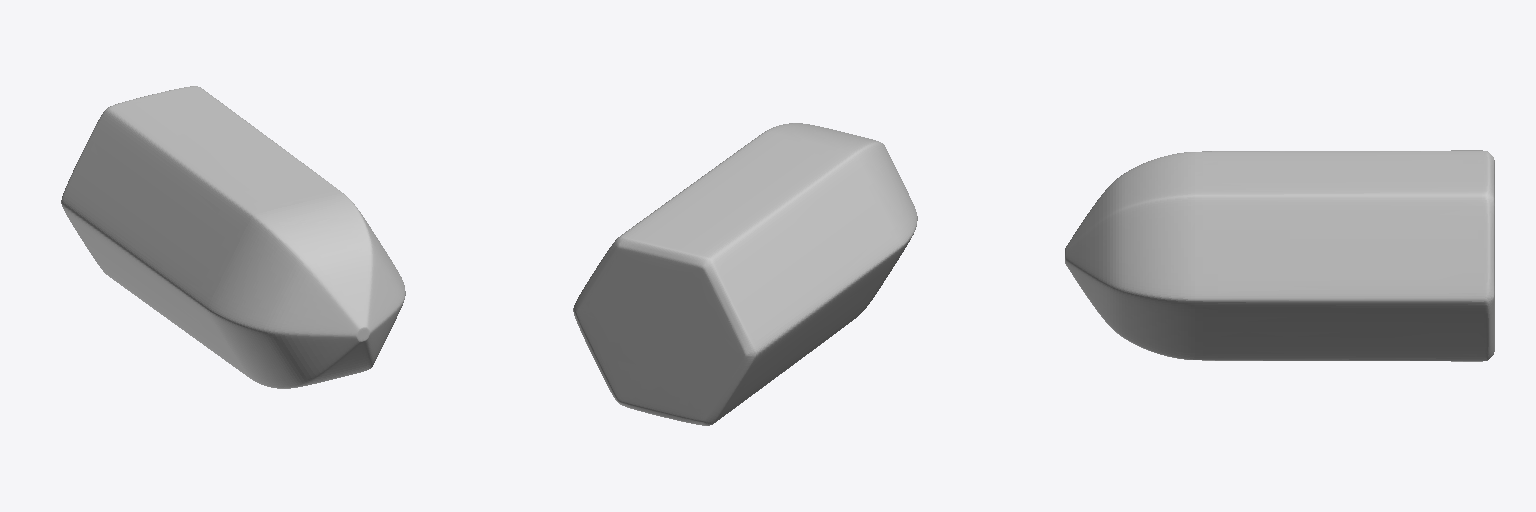
Rendered from Pawn_Side_A_V2_L3.obj.
The picture shows the model from 3 angles: view 1: azimuth 30°, elevation 25°; view 2: azimuth 150°, elevation 25°; view 3: azimuth 270°, elevation 25°; orthographic projection.
Visible parts, largest first — view 1: 12944_Stone_Chess_Pawn_Side_A; view 2: 12944_Stone_Chess_Pawn_Side_A; view 3: 12944_Stone_Chess_Pawn_Side_A.
Boxes of the visible parts, x1=… form: 12944_Stone_Chess_Pawn_Side_A: x1=61, y1=86, x2=405, y2=388; 12944_Stone_Chess_Pawn_Side_A: x1=573, y1=123, x2=917, y2=425; 12944_Stone_Chess_Pawn_Side_A: x1=1065, y1=150, x2=1494, y2=361.
Bounding box in the file's own units: 2.42 × 2.15 × 4.92.